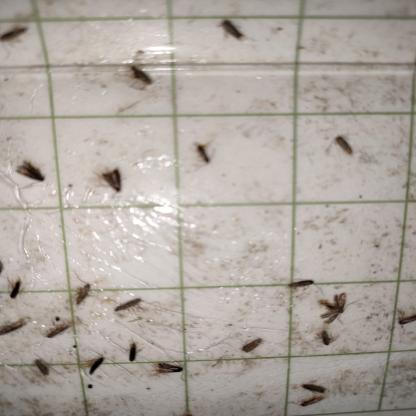prays_oleae: (119, 54, 164, 105), (10, 146, 55, 194), (149, 354, 202, 391), (93, 159, 128, 215), (318, 278, 352, 326), (214, 12, 252, 52), (78, 344, 108, 393), (0, 310, 30, 355), (278, 269, 316, 304), (70, 264, 93, 320), (330, 126, 360, 165), (192, 131, 216, 177), (0, 24, 32, 58), (233, 332, 266, 363), (109, 288, 145, 316), (42, 318, 75, 348), (292, 370, 329, 394), (121, 335, 141, 375), (28, 354, 54, 384), (7, 268, 28, 305), (391, 306, 416, 334), (316, 327, 339, 356), (296, 396, 329, 411)
